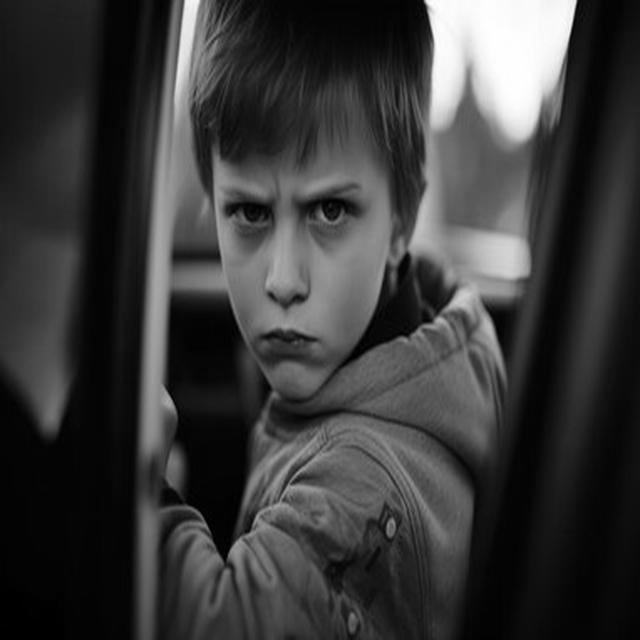Angry: (214, 110, 392, 401)
